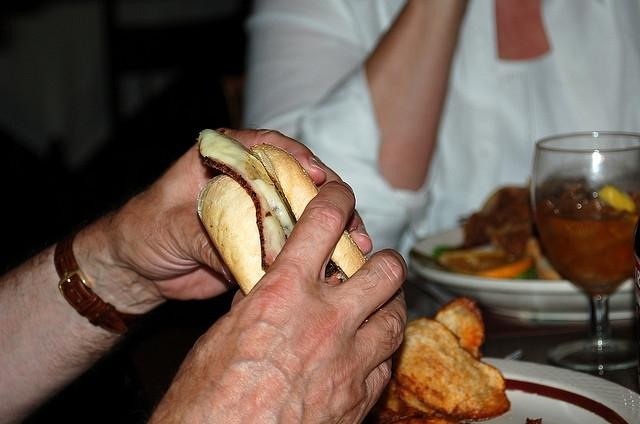orange: (437, 250, 533, 278)
